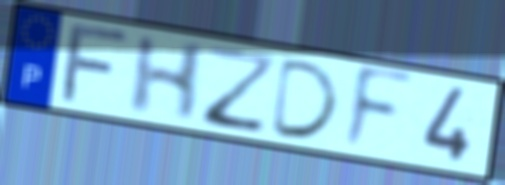4: (420, 86, 474, 166)
D: (266, 56, 343, 142)
F: (340, 62, 417, 155), (55, 22, 135, 106)
H: (125, 34, 210, 124)
Z: (201, 44, 280, 138)
